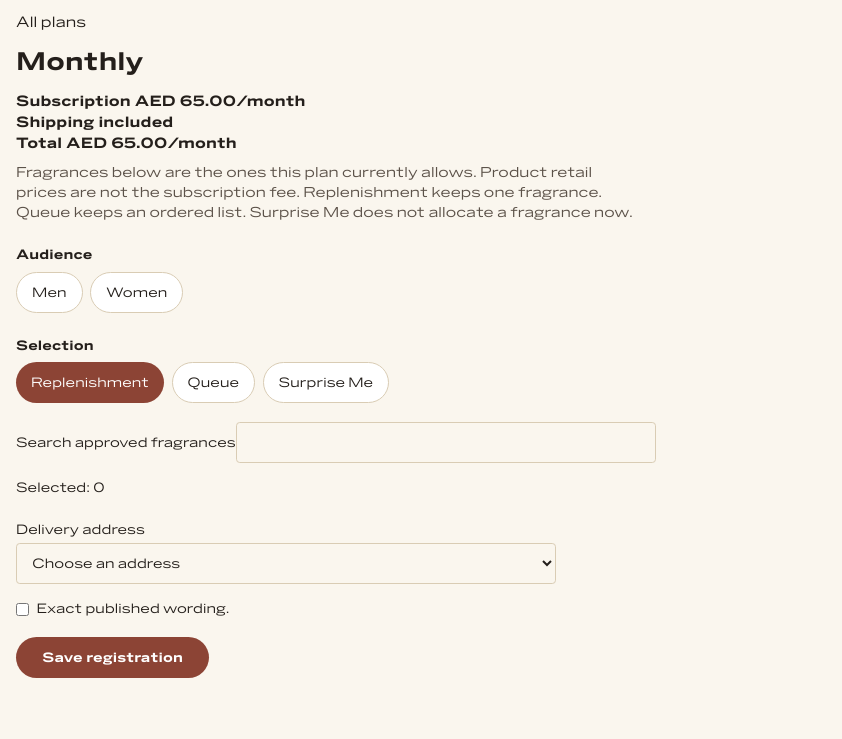
account subscriptions and registration gate › blocks surprise registration when no schedule is published
This screenshot has width=842, height=739.
Expected: the text "Exact published wording." is shown, [36,599,230,618]
Click the button "Women" at (137, 292), box [90,272,183,313]
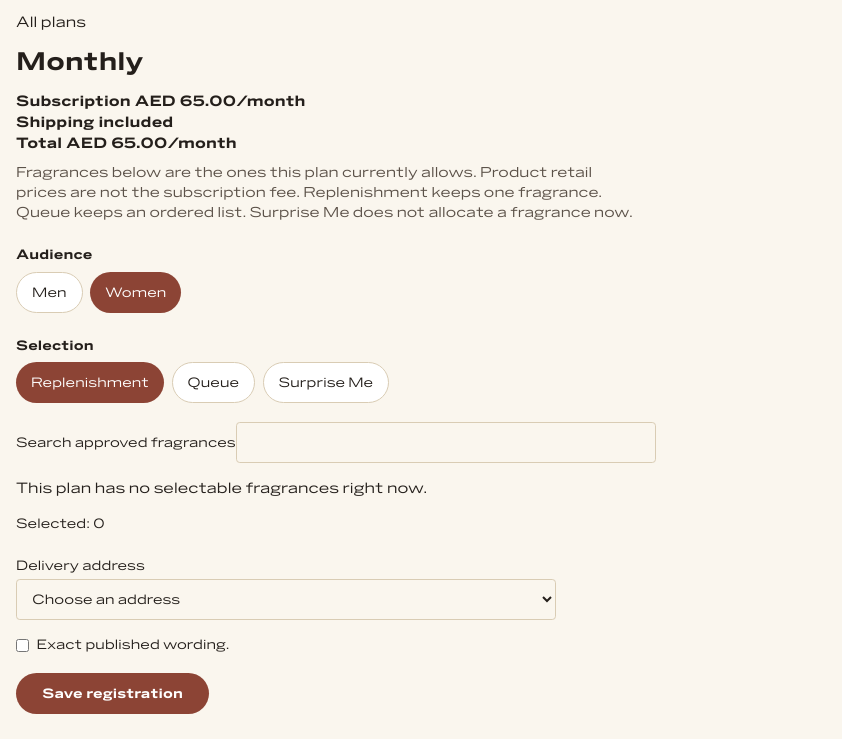
Click the button "Surprise Me" at (326, 383), box [263,362,389,403]
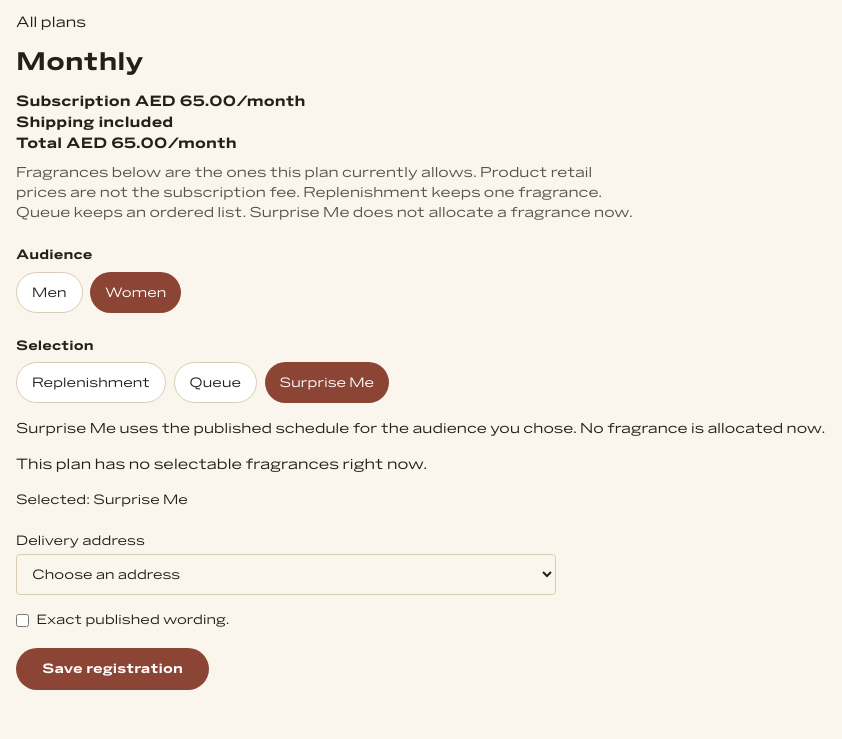
Select "1 Rose Street, Dubai, AE" in the dropdown labelled "Delivery address" at (286, 575), box [16,554,556,596]
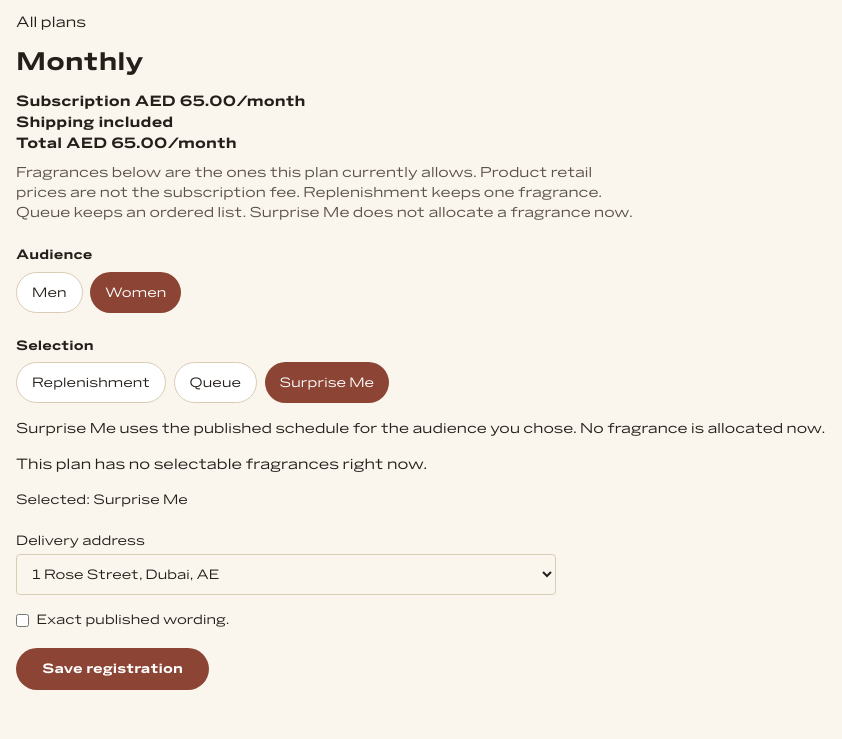
Click the checkbox at (22, 621), box [16,614,29,627]
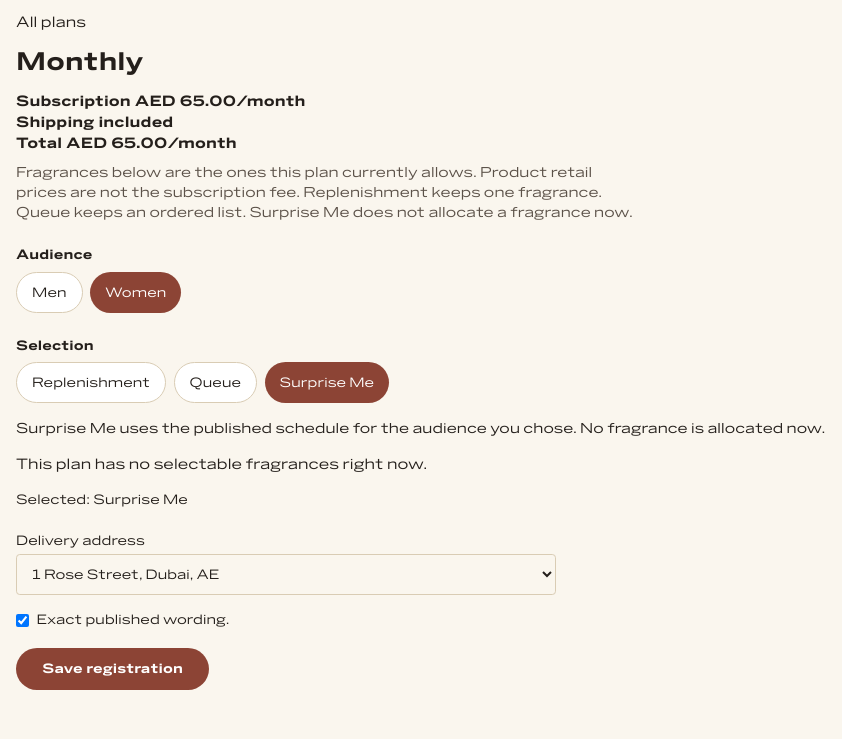
Click the button "Save registration" at (113, 669), box [16,648,209,690]
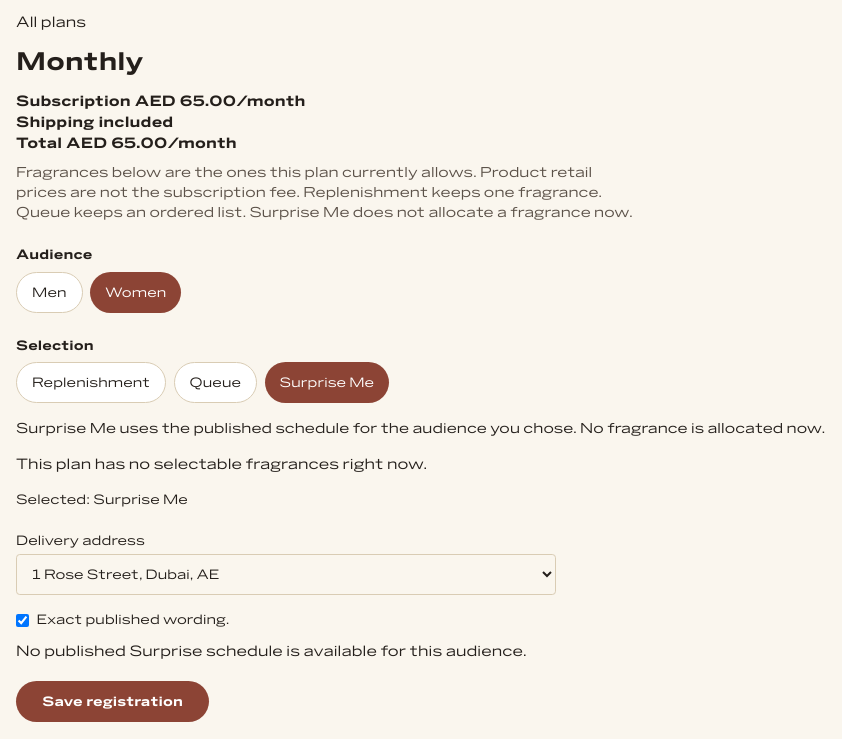
Expected: the text "No published Surprise schedule is available for this audience." is shown, [16,641,556,662]
